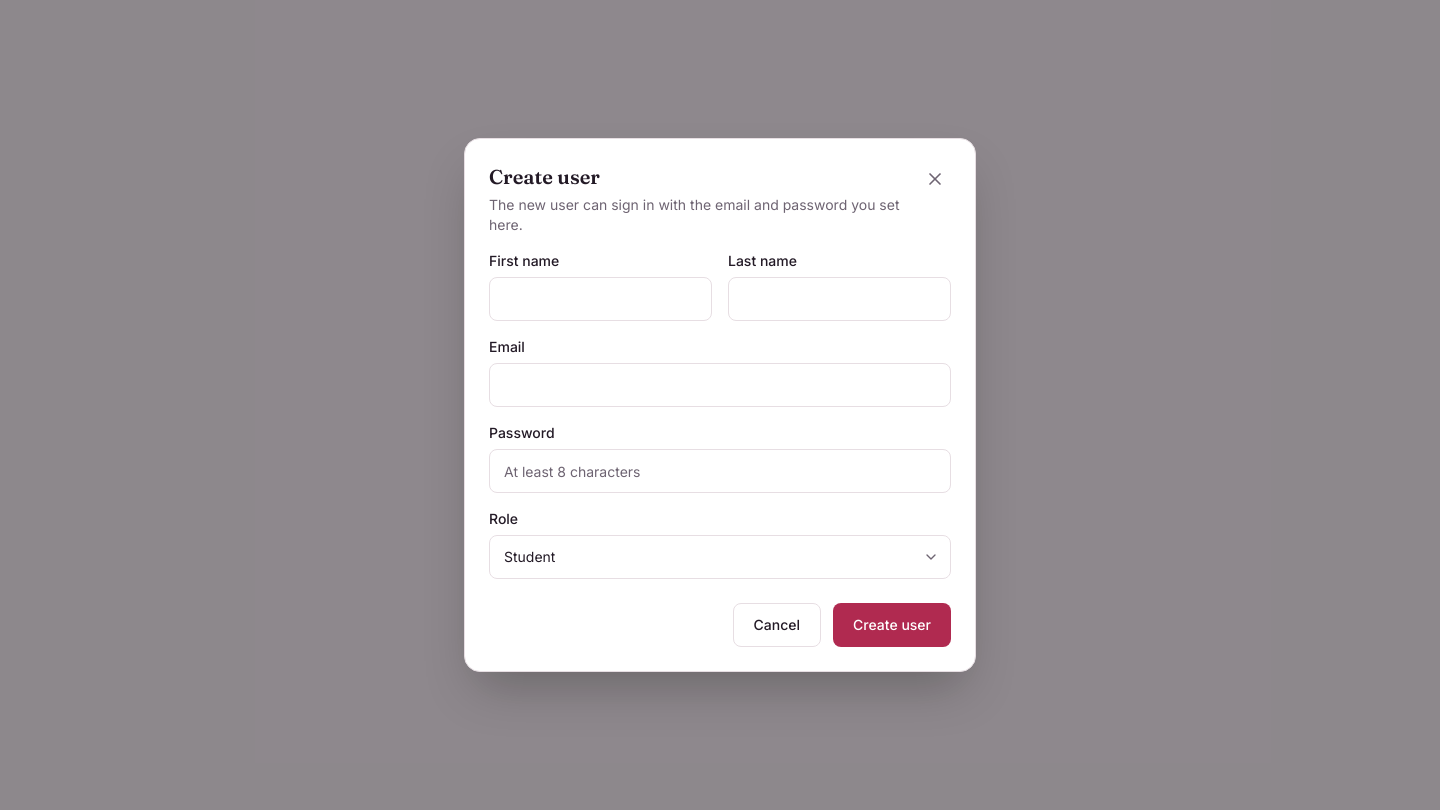
Scenario: UserFormModal › create mode requires a password of the minimum length
The width and height of the screenshot is (1440, 810).
Type "New" into the field labelled "First name" at (600, 299), box [489,277,712,321]
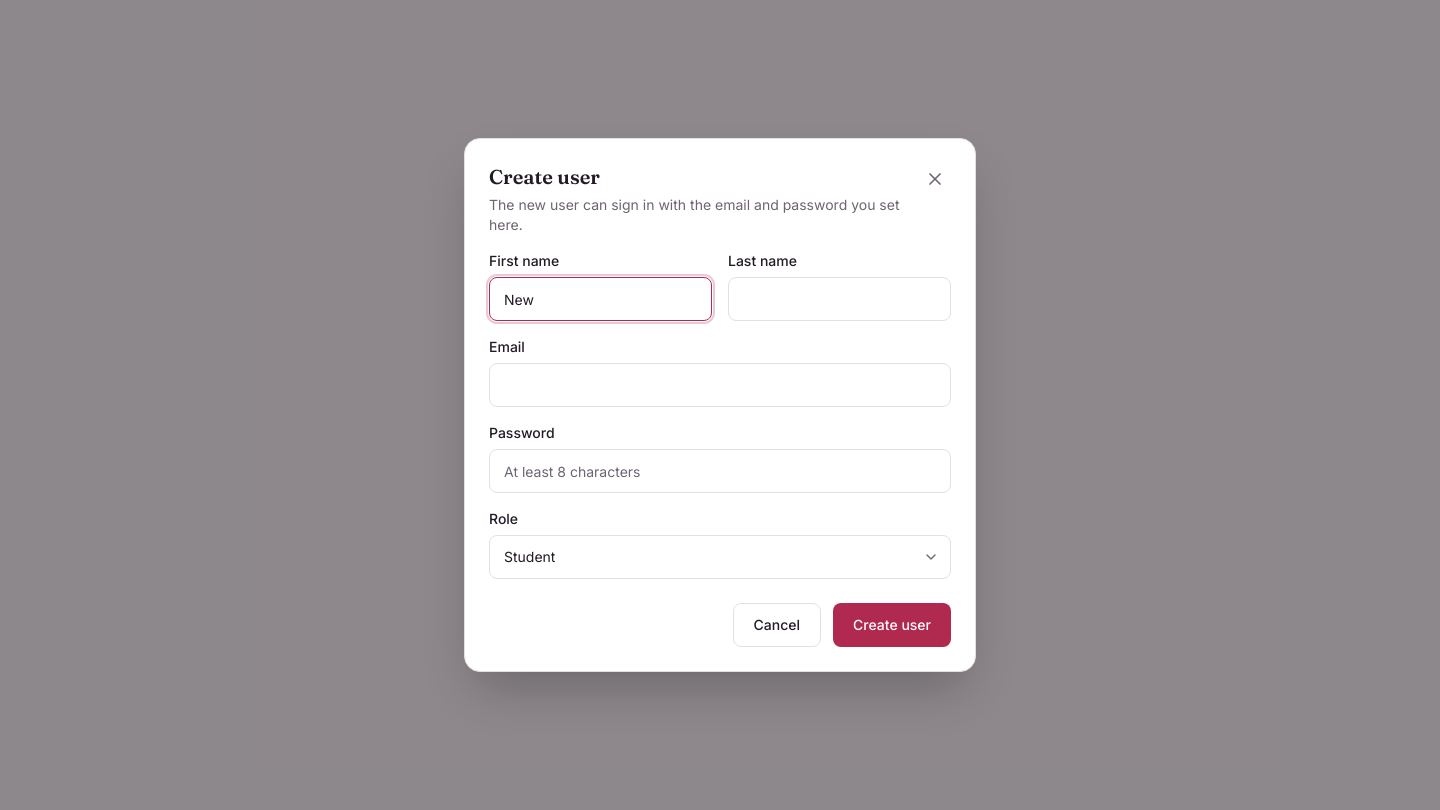
Type "Person" into the field labelled "Last name" at (840, 299), box [728,277,951,321]
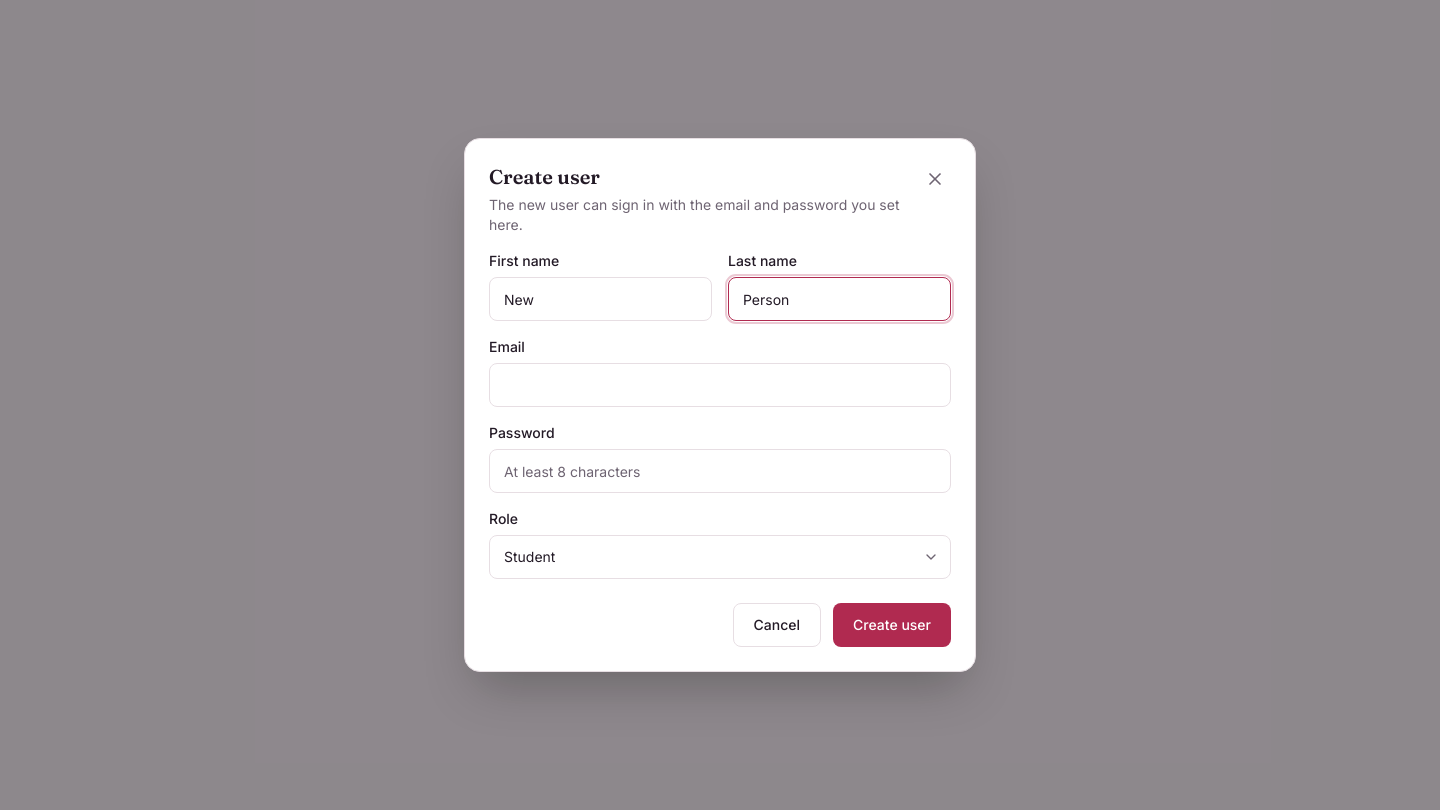
Type "new@example.com" into the field labelled "Email" at (720, 385), box [489,363,951,407]
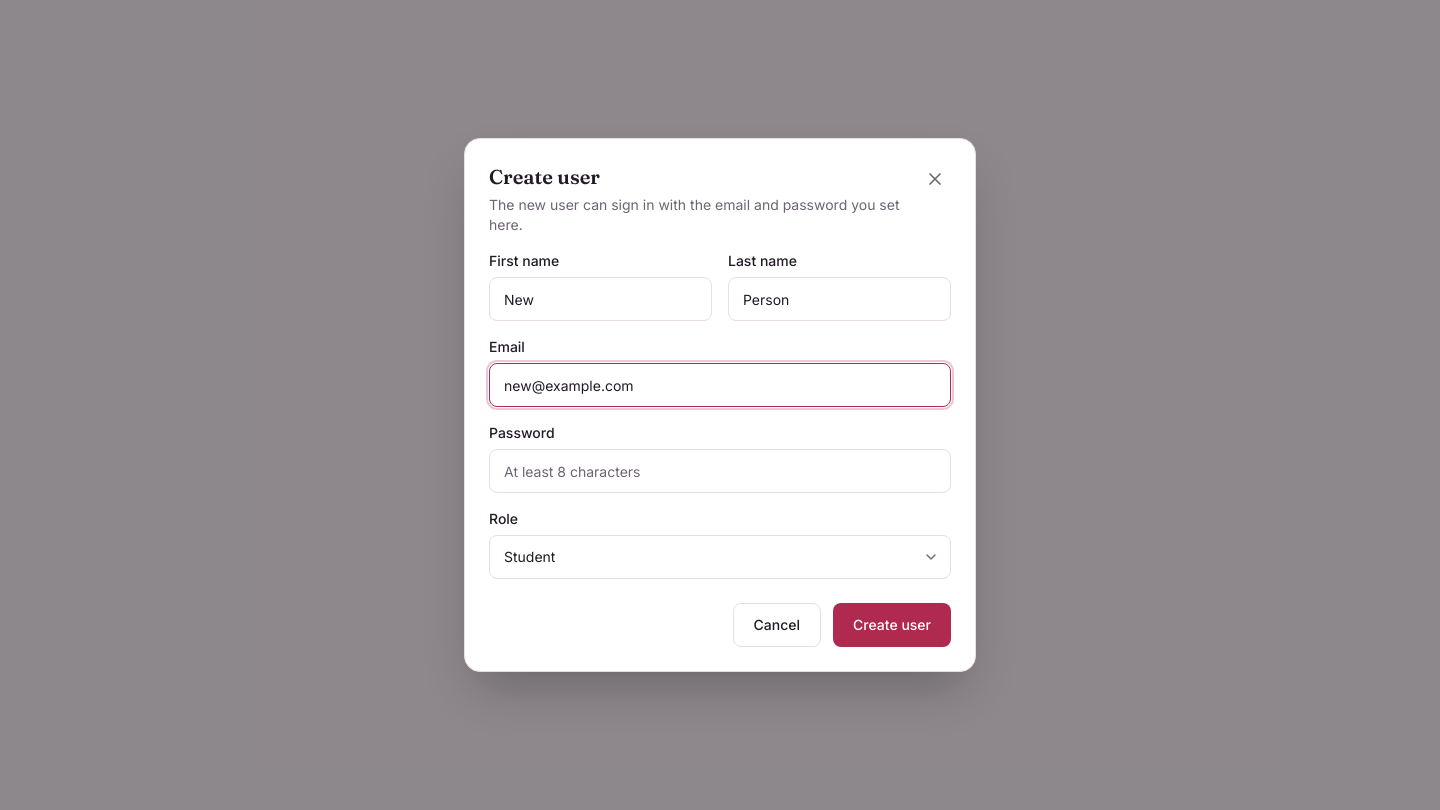
Type "short" into the password field labelled "Password" at (720, 471), box [489,449,951,493]
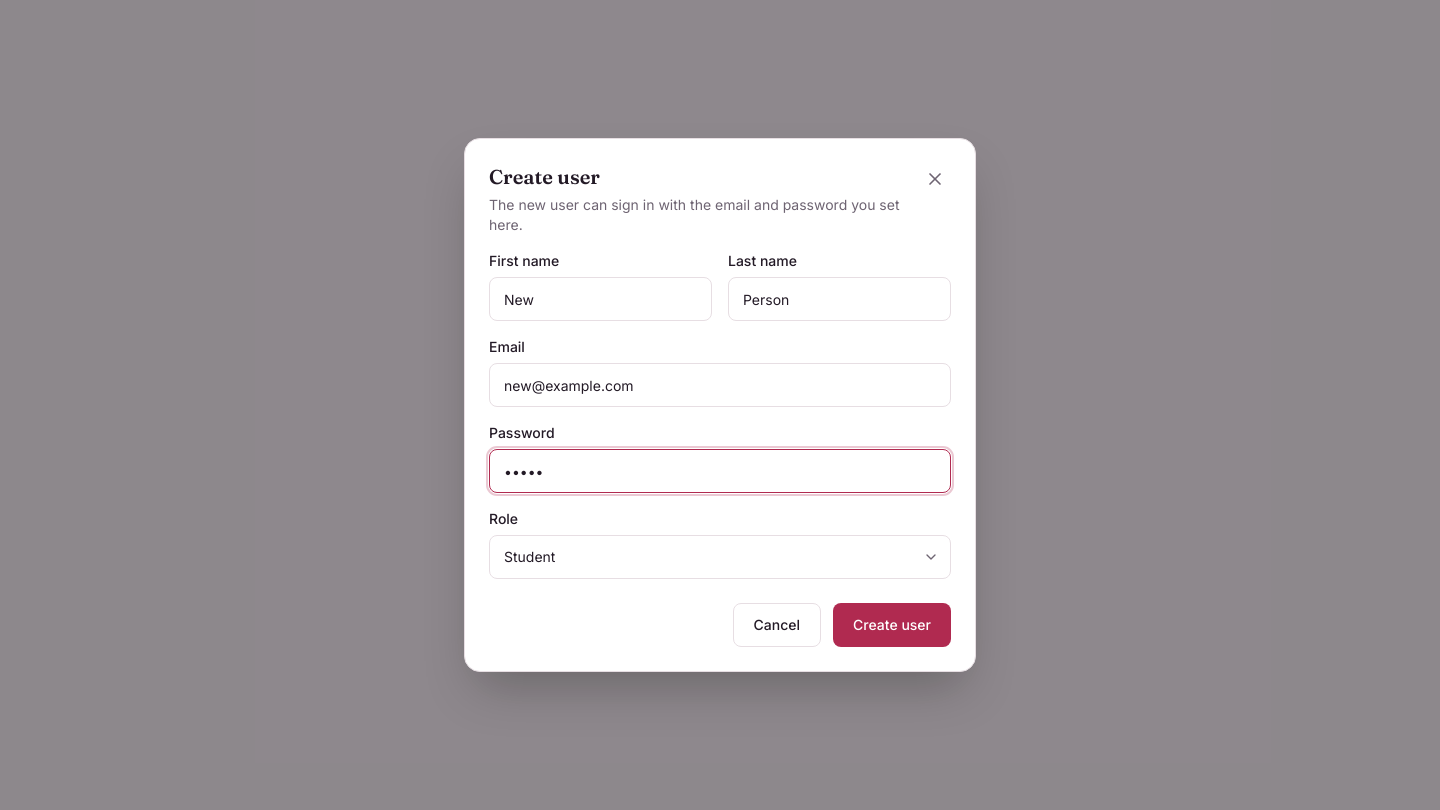
Click the button "Create user" at (892, 625), box [833,603,951,647]
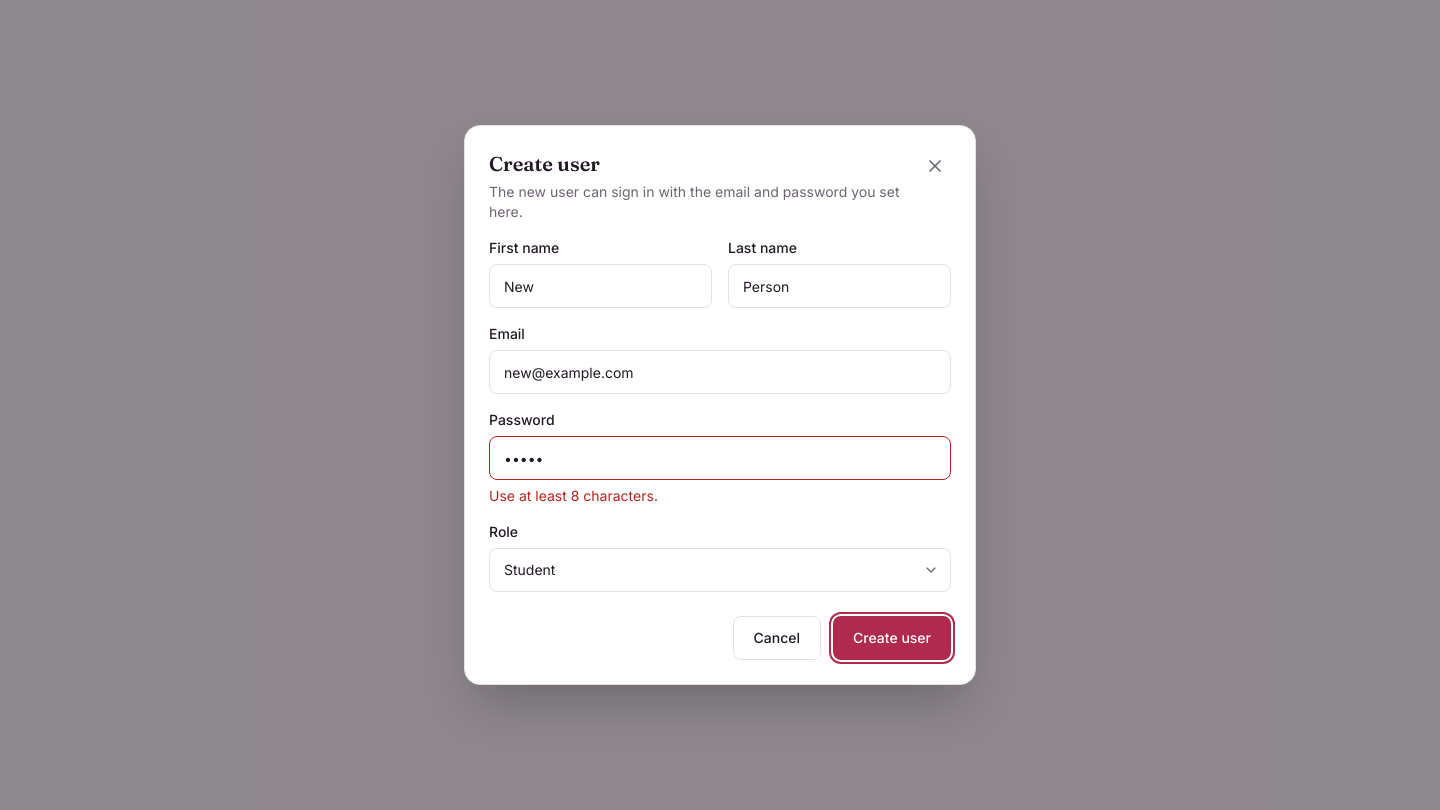
Now the text "Use at least 8 characters." is shown, box [489,487,658,504]
